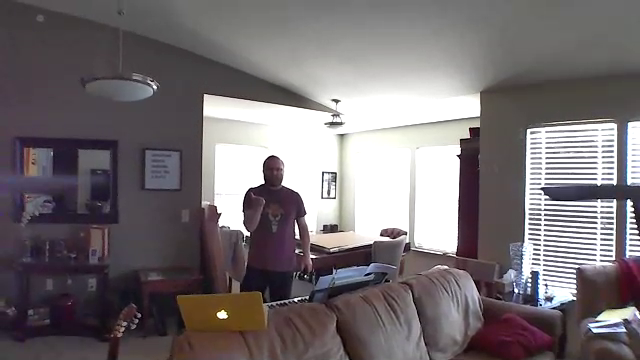land: (241, 190, 270, 205)
